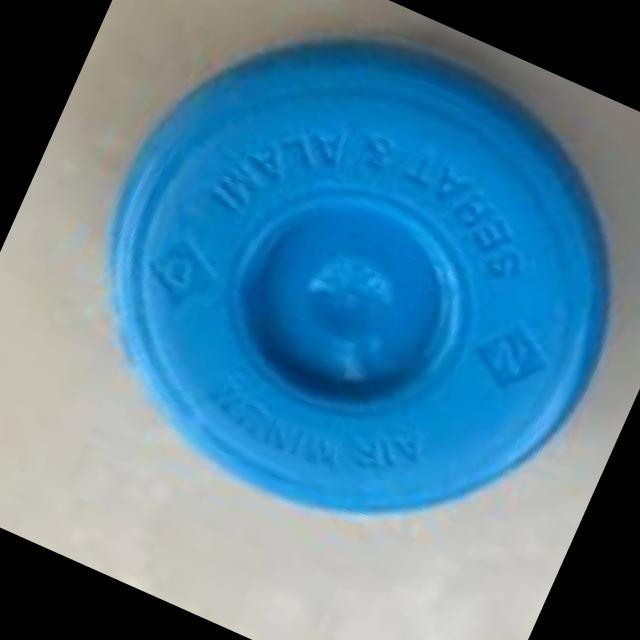TutupGalon: (28, 0, 640, 602)
